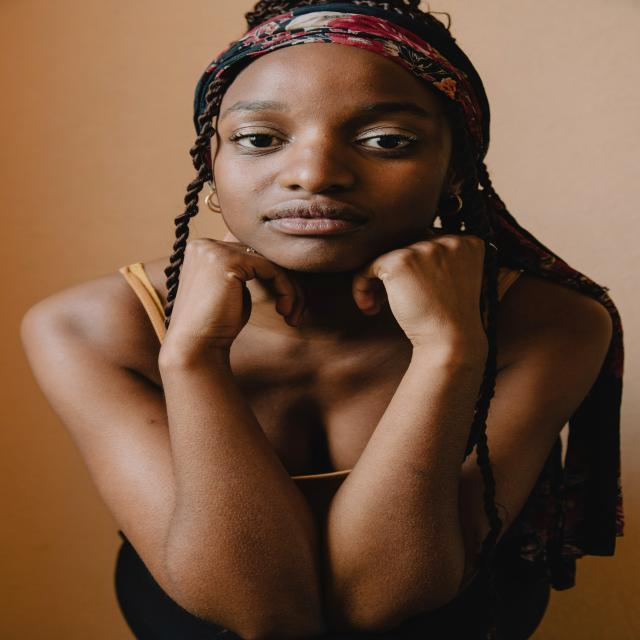adult: (21, 8, 610, 640)
